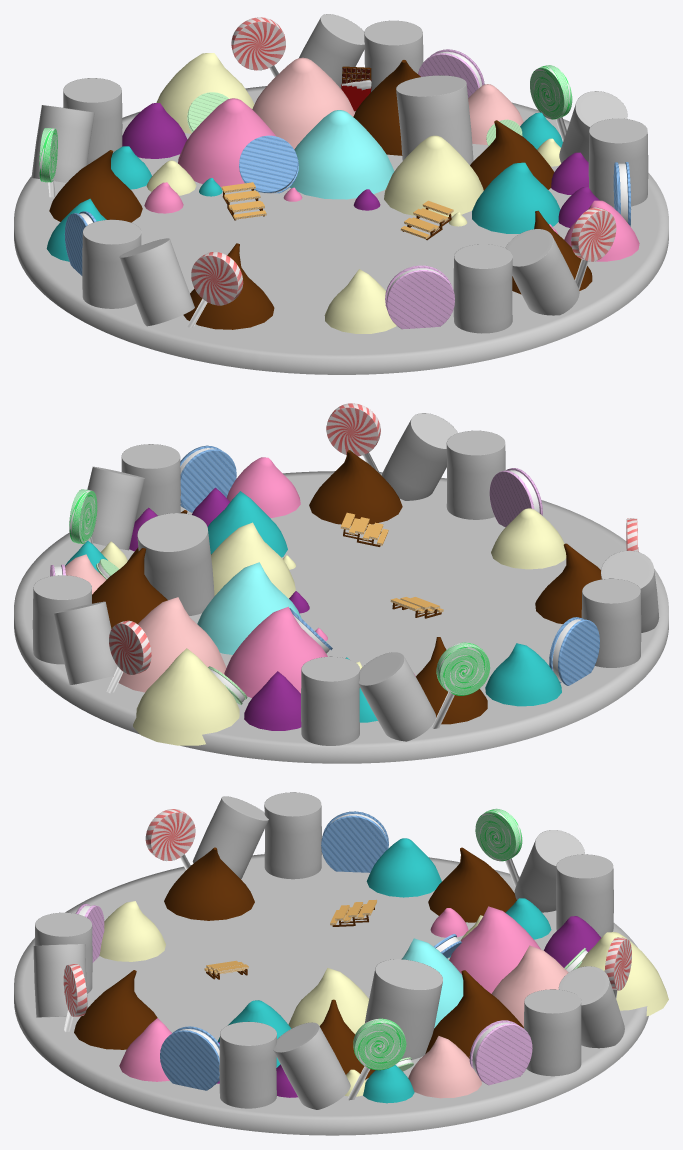
File: Game_DestruccionMottis.fbx
3 renders of one model, top to bottom at view 1: azimuth 30°, elevation 25°; view 2: azimuth 150°, elevation 25°; view 3: azimuth 270°, elevation 25°, orthographic. The views are drawn at different scales.
Parts seen in each view (by area): view 1: GalletaEscenario, Golochifs.009, Golochifs.015, Masmelo.011, Masmelo.010, Golochifs.012, Golochifs.010, Masmelo.009, Masmelo.007, Masmelo.008, Masmelo.001, Golochifs.014 (+36 smaller); view 2: GalletaEscenario, Golochifs.003, Masmelo.011, Masmelo.006, Golochifs.010, Masmelo.005, Golochifs.009, Masmelo.010, Masmelo.008, Masmelo.009, ChispaDe/Chocolate.006, Golochifs.012 (+25 smaller); view 3: GalletaEscenario, Masmelo.011, Masmelo.001, Masmelo.008, Masmelo.004, Masmelo.003, ChispaDe/Chocolate.005, Golochifs.010, Masmelo.006, ChispaDe/Chocolate.006, ChispaDe/Chocolate.004, Masmelo.007 (+30 smaller).
Boxes of the visible parts, left/top/right/bottom form: GalletaEscenario: left=14, top=86, right=668, bottom=374; Golochifs.009: left=290, top=110, right=394, bottom=199; Golochifs.015: left=384, top=135, right=483, bottom=216; Masmelo.011: left=396, top=75, right=473, bottom=164; Masmelo.010: left=453, top=244, right=512, bottom=333; Golochifs.012: left=252, top=57, right=354, bottom=149; Golochifs.010: left=178, top=98, right=276, bottom=187; Masmelo.009: left=505, top=229, right=579, bottom=315; Masmelo.007: left=119, top=238, right=194, bottom=326; Masmelo.008: left=82, top=219, right=141, bottom=308; Masmelo.001: left=588, top=118, right=648, bottom=207; Golochifs.014: left=472, top=162, right=560, bottom=233; GalletaEscenario: left=14, top=471, right=668, bottom=763; Golochifs.003: left=133, top=648, right=239, bottom=745; Masmelo.011: left=137, top=513, right=214, bottom=615; Masmelo.006: left=301, top=656, right=359, bottom=745; Golochifs.010: left=224, top=606, right=327, bottom=697; Masmelo.005: left=358, top=652, right=435, bottom=741; Golochifs.009: left=197, top=562, right=301, bottom=654; Masmelo.010: left=446, top=430, right=505, bottom=519; Masmelo.008: left=581, top=578, right=641, bottom=667; Masmelo.009: left=381, top=413, right=457, bottom=500; ChispaDe/Chocolate.006: left=309, top=450, right=402, bottom=525; Golochifs.012: left=113, top=597, right=226, bottom=692; GalletaEscenario: left=14, top=853, right=648, bottom=1135; Masmelo.011: left=364, top=959, right=442, bottom=1059; Masmelo.001: left=219, top=1021, right=276, bottom=1108; Masmelo.008: left=264, top=792, right=321, bottom=879; Masmelo.004: left=524, top=989, right=581, bottom=1076; Masmelo.003: left=273, top=1022, right=350, bottom=1109; ChispaDe/Chocolate.005: left=164, top=847, right=254, bottom=920; Golochifs.010: left=449, top=906, right=540, bottom=993; Masmelo.006: left=556, top=854, right=613, bottom=937; ChispaDe/Chocolate.006: left=74, top=970, right=157, bottom=1049; ChispaDe/Chocolate.004: left=428, top=847, right=516, bottom=922; Masmelo.007: left=192, top=796, right=268, bottom=878.
Size of the model in its own units: 49872 by 8954 by 51283.
